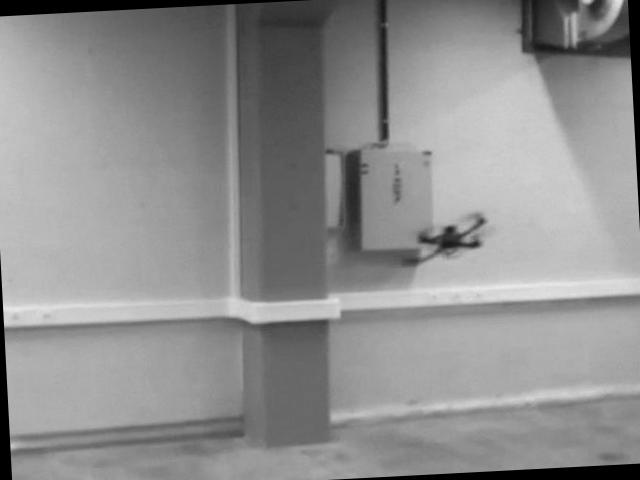drone: (397, 211, 489, 266)
